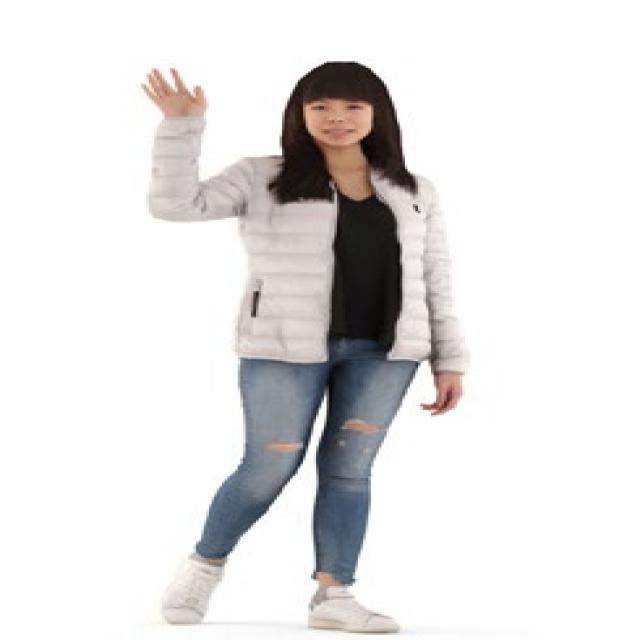standing: (138, 55, 472, 637)
